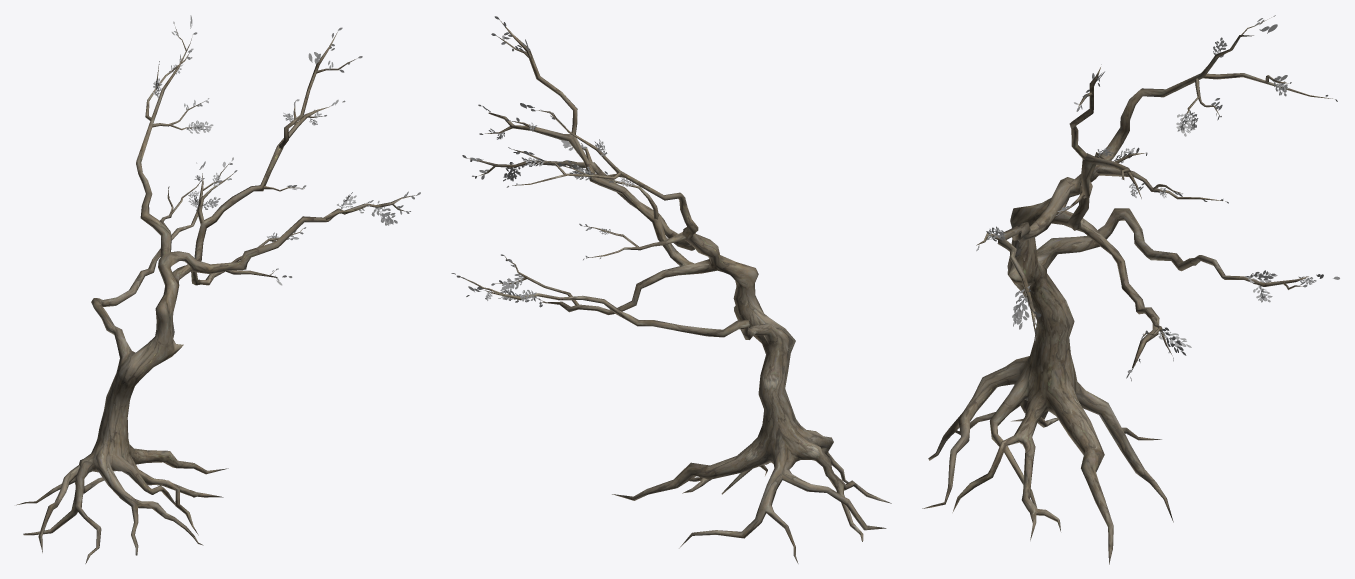
The model's file is SM_Com_Tre_12AM.fbx.
3 renders of one model, left to right at view 1: azimuth 30°, elevation 25°; view 2: azimuth 150°, elevation 25°; view 3: azimuth 270°, elevation 25°, orthographic. The views are drawn at different scales.
Visible parts, largest first — view 1: SM_Com_Tre_12AM.mo; view 2: SM_Com_Tre_12AM.mo; view 3: SM_Com_Tre_12AM.mo.
Boxes of the visible parts, <box> form: SM_Com_Tre_12AM.mo: <box>16,15,420,563</box>; SM_Com_Tre_12AM.mo: <box>451,16,891,563</box>; SM_Com_Tre_12AM.mo: <box>922,15,1339,564</box>.
Bounding box in the file's own units: 6.8 × 7.21 × 4.61.
